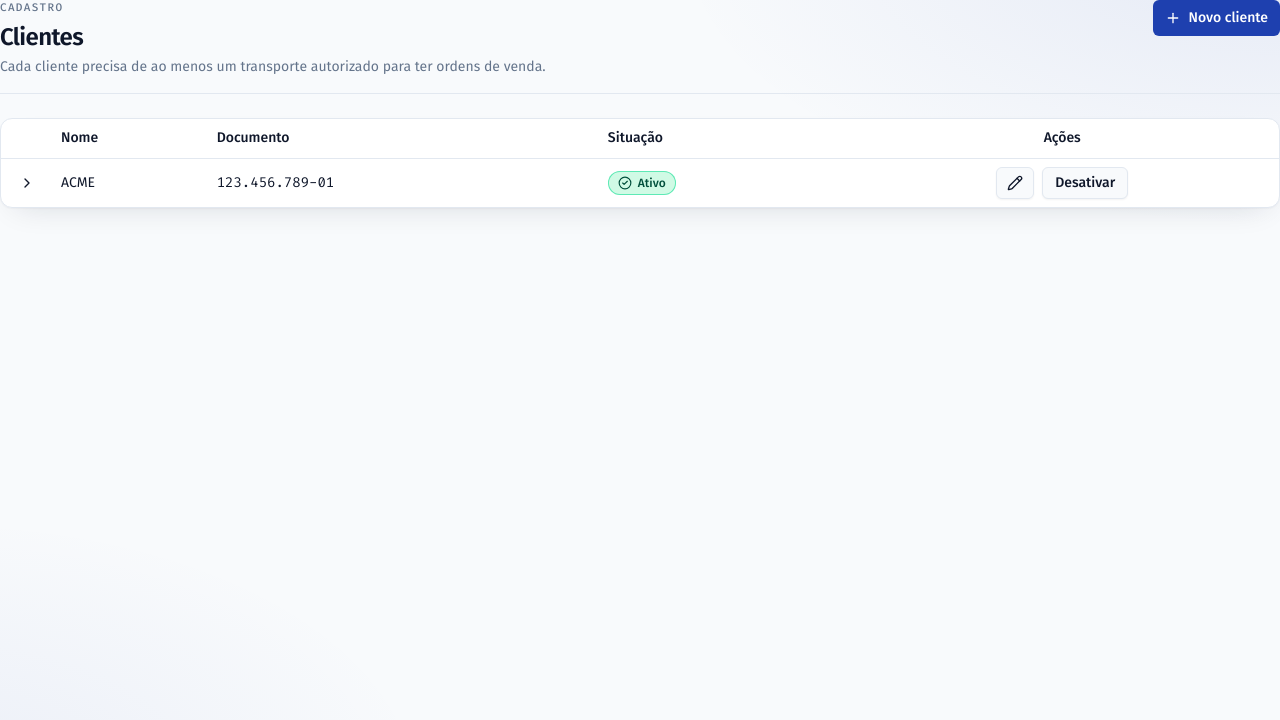
Test: CustomersPage › abre o diálogo de edição do cliente pré-preenchido com nome e e-mail atuais, e mostra o documento como somente leitura
Click the button named "Editar cliente ACME".
click(1015, 183)  # box [996, 167, 1034, 199]
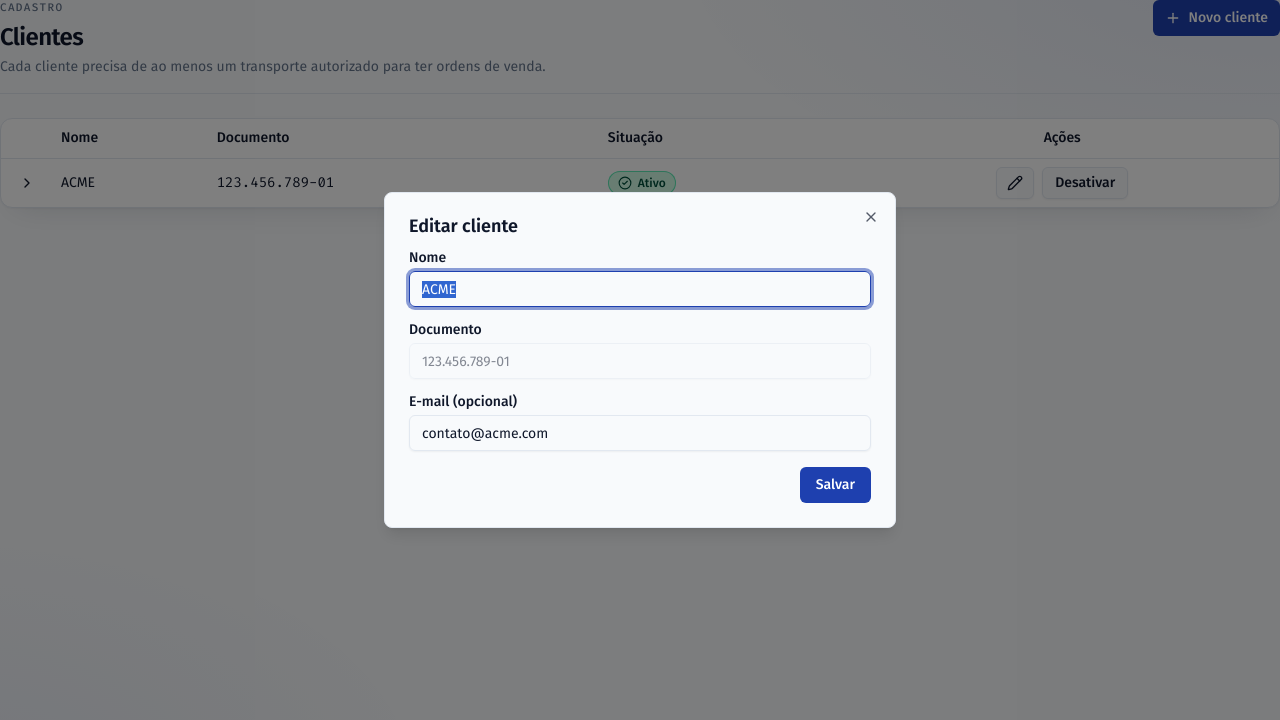
Check: the field labelled "Nome" holds "ACME", box [409, 271, 871, 307]
Check: the field labelled "E-mail (opcional)" holds "contato@acme.com", box [409, 415, 871, 451]
Check: the field labelled "Documento" holds "123.456.789-01", box [409, 343, 871, 379]
